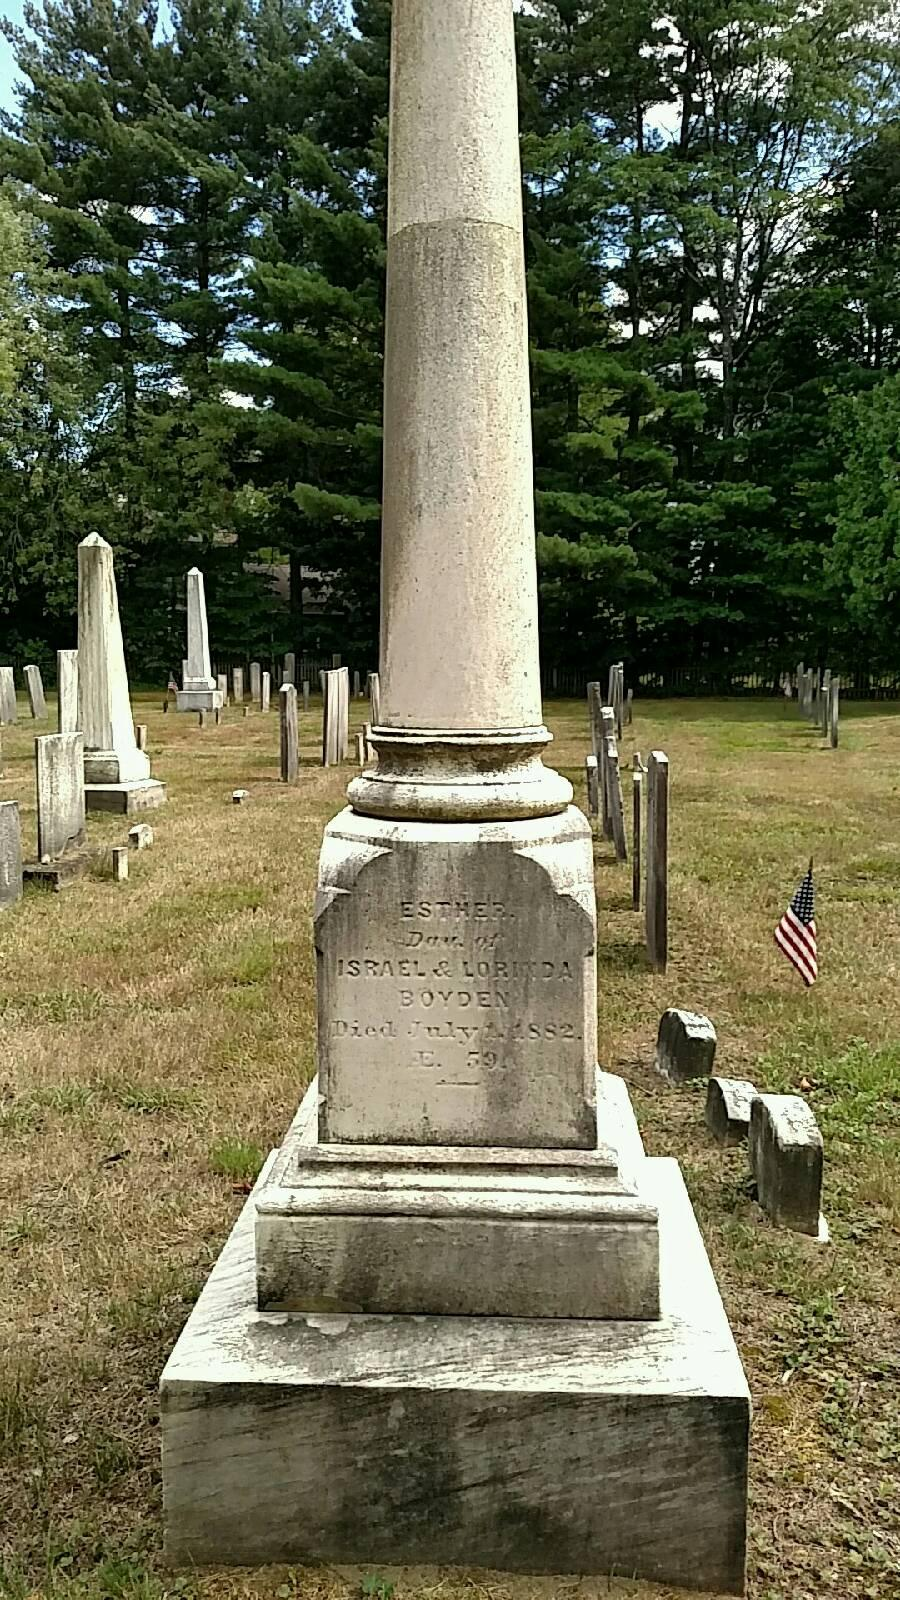obelisk: (251, 12, 656, 1327)
